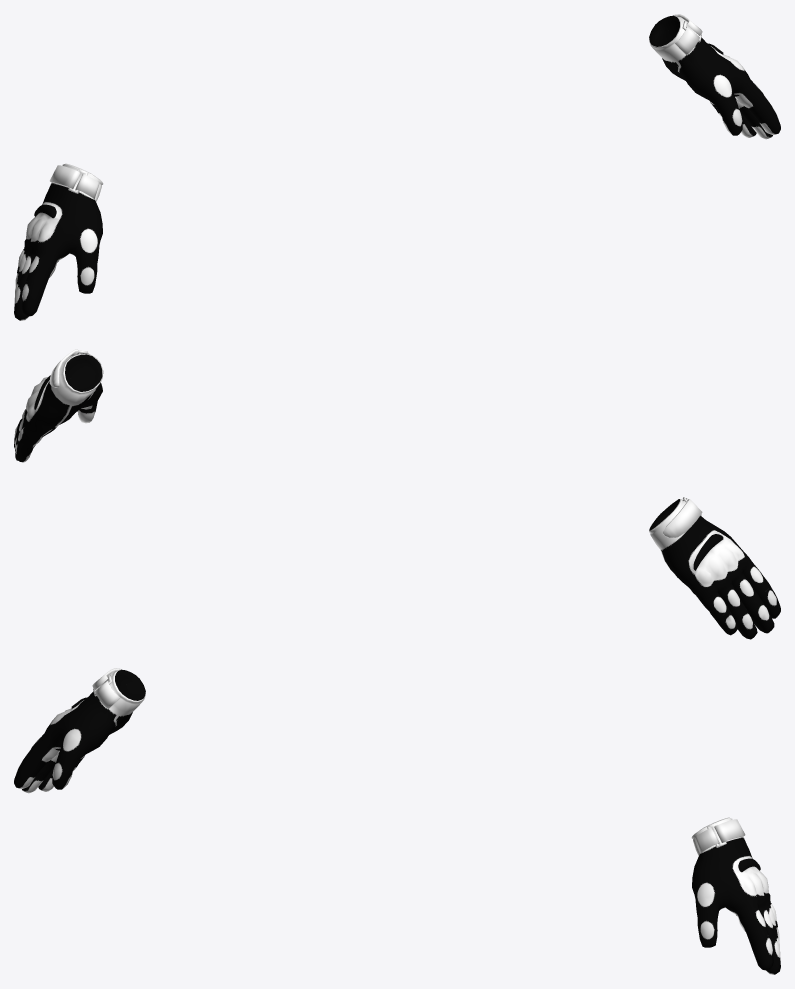
The model's file is SurvivorMale_Hands_Gloves_Moto_LOD0.glb.
3 views of the same model, one above another, from view 1: azimuth 30°, elevation 25°; view 2: azimuth 150°, elevation 25°; view 3: azimuth 330°, elevation 25° (orthographic).
Parts seen in each view (by area): view 1: Hoodie; view 2: Hoodie; view 3: Hoodie.
Boxes of the visible parts, bbox=[...] form: Hoodie: bbox=[14, 14, 780, 320]; Hoodie: bbox=[14, 349, 780, 639]; Hoodie: bbox=[14, 668, 780, 974].
Bounding box in the file's own units: 1.34 × 0.2182 × 0.1674.
Materials: 1 (1 with a texture image).
